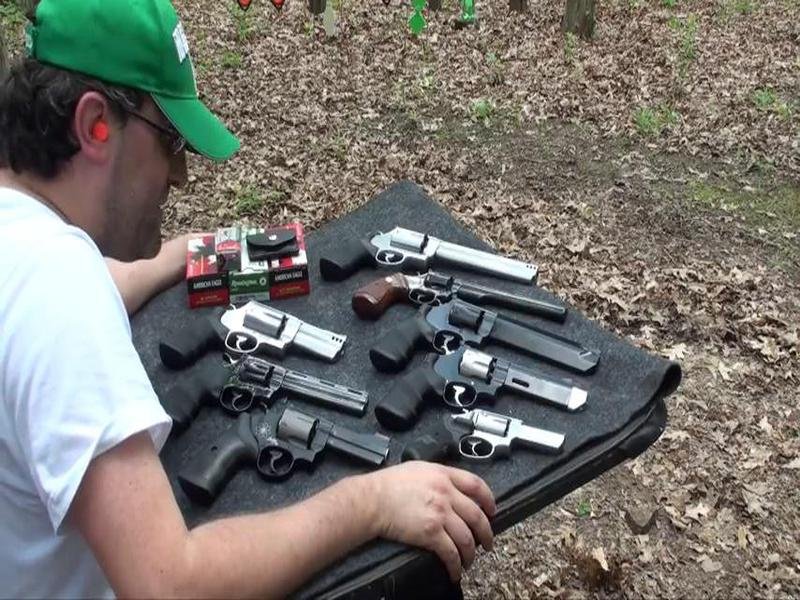Revolver: (154, 276, 350, 373)
